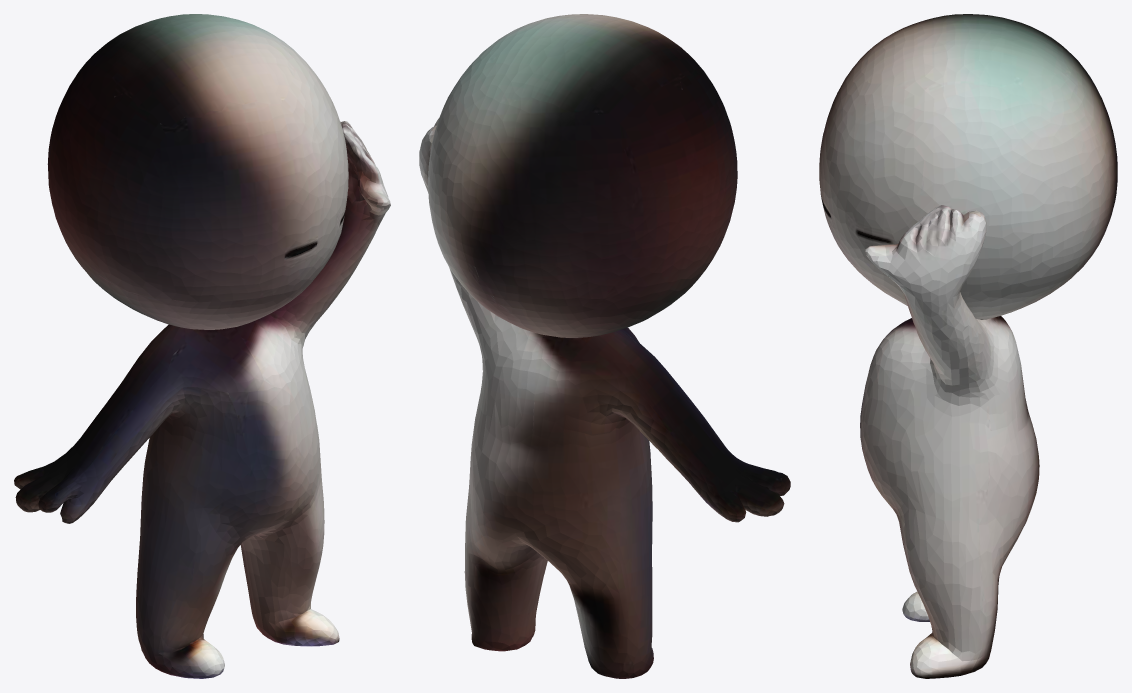
Rendered from annoying-light.glb.
The picture shows the model from 3 angles, left to right: view 1: azimuth 30°, elevation 25°; view 2: azimuth 150°, elevation 25°; view 3: azimuth 270°, elevation 25°; orthographic projection. The views are drawn at different scales.
Visible parts, largest first — view 1: AnnoyingLight; view 2: AnnoyingLight; view 3: AnnoyingLight.
Boxes of the visible parts, x1,y1,x2,y2 form: AnnoyingLight: [14, 14, 390, 678]; AnnoyingLight: [419, 14, 790, 678]; AnnoyingLight: [819, 14, 1117, 678].
Bounding box in the file's own units: 1.77 × 2.99 × 1.36.
Materials: 1 (1 with a texture image).
